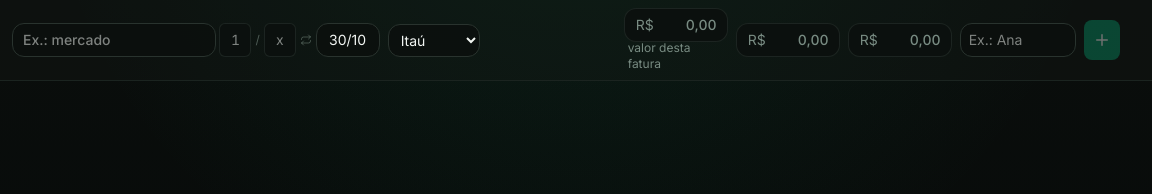
CardEntryForm › preserva o rascunho quando o navegador recusa a gravação
Type "Compra pendente" into the field named "Descrição da nova compra" at (114, 40), box [12,23,216,57]
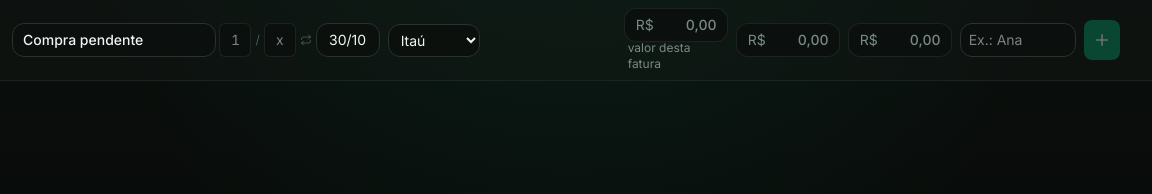
Type "10000" into the field with placeholder "0,00" at (676, 25), box [624,8,728,42]
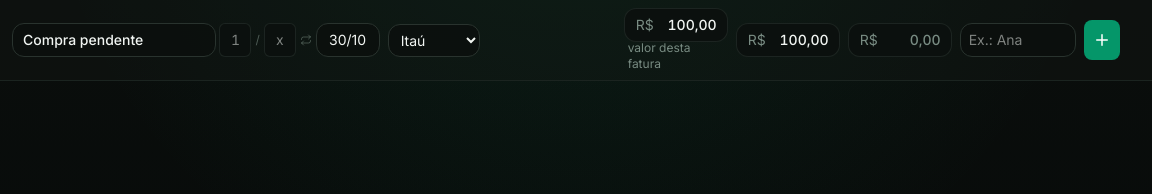
Submit the form, box [0,0,1151,81]
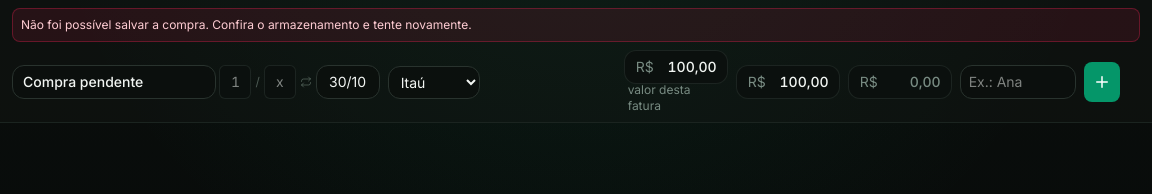
Expected: the message "Não foi possível salvar a compra. Confira o armazenamento e tente novamente." is shown, [12,8,1140,42]
